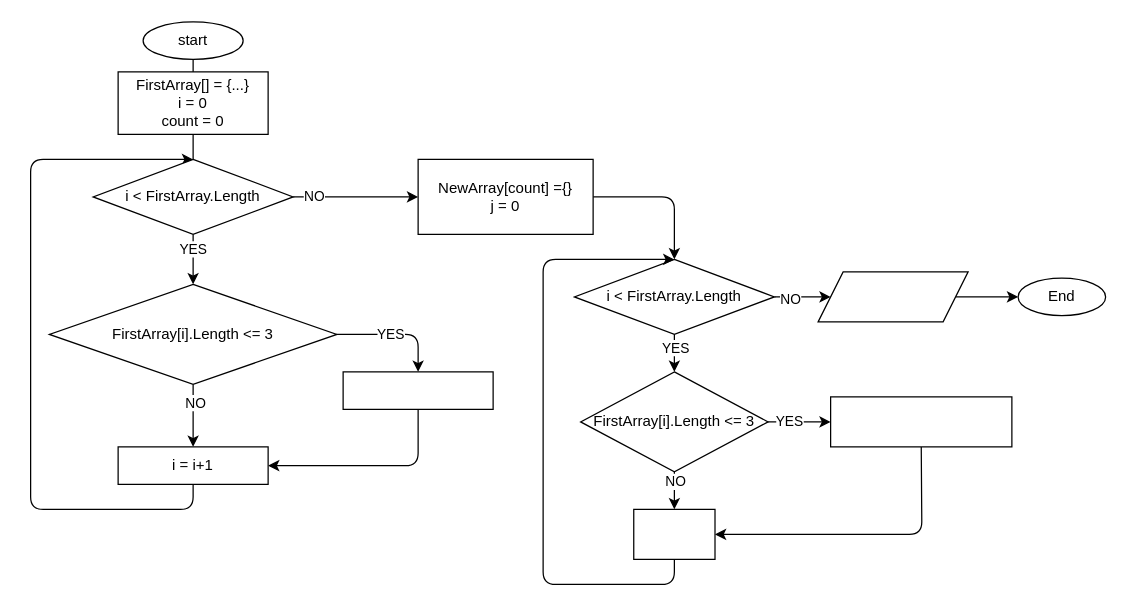
This 1128x616 diagram has some shape labels left out. Each missing label, with the centre of its shape:
"count = count +1" goes at point (417, 390).
"i = i +1" goes at point (673, 533).
"New.Array" goes at point (892, 296).
"NewArray[j] = FirstArra[i] j = j+1" goes at point (920, 421).
